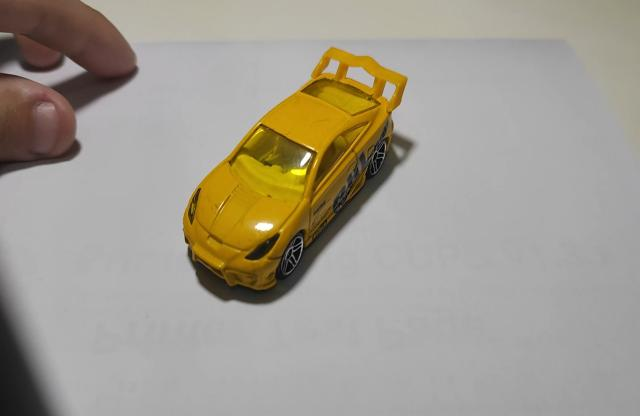07_RHLTURBO: (183, 49, 408, 295)
